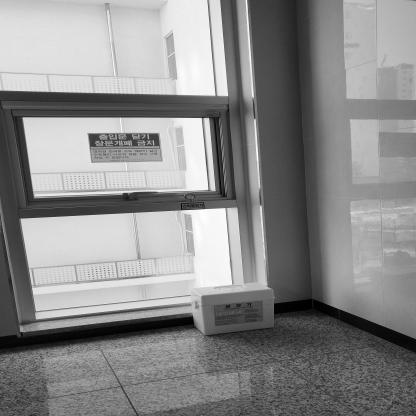DDL: (193, 285, 276, 336)
